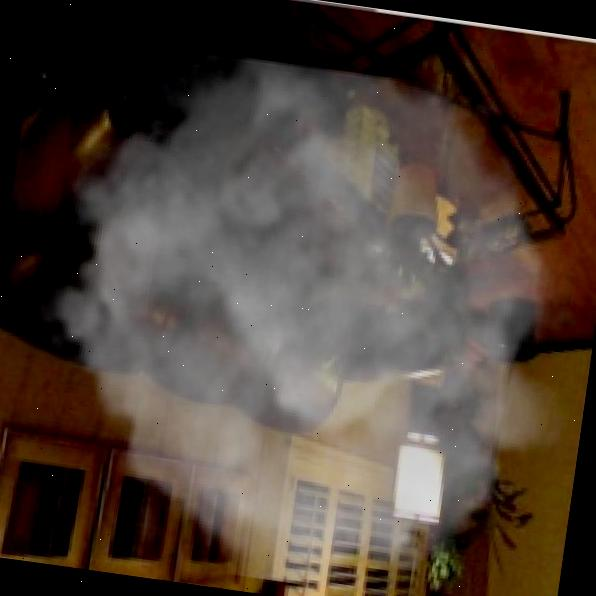smoke: (0, 32, 596, 596)
